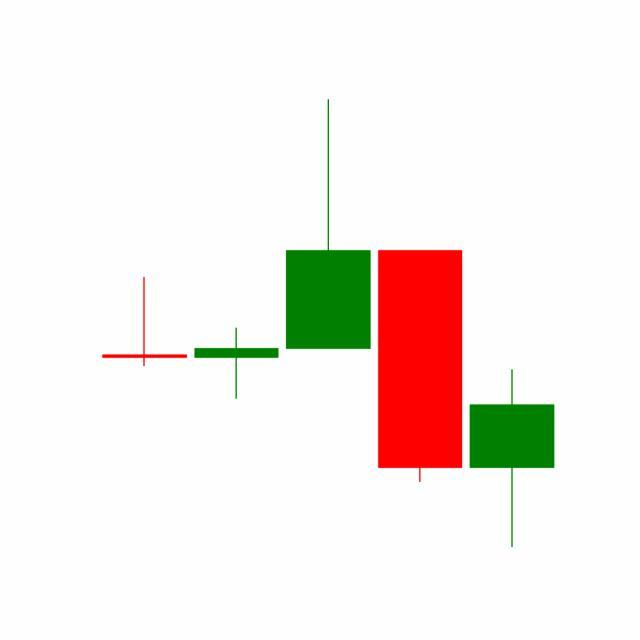Marubozu: (374, 248, 468, 486)
